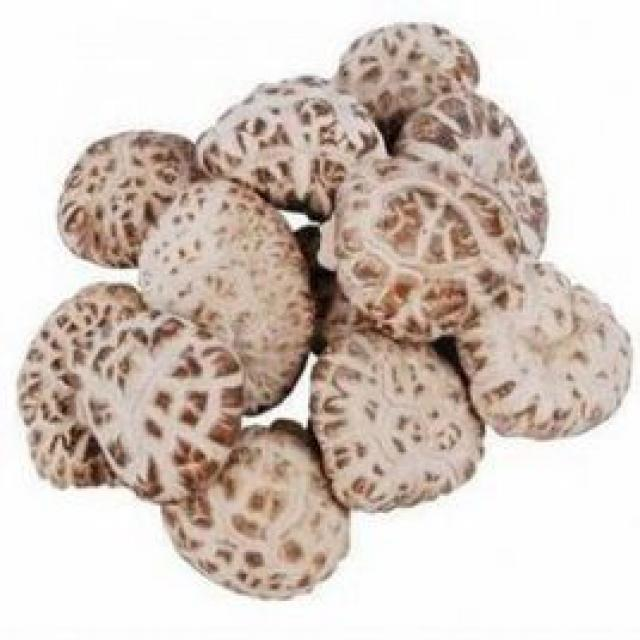Lentinus edodes: (138, 182, 310, 418), (159, 420, 352, 598), (339, 154, 516, 340), (308, 332, 487, 509), (455, 263, 634, 436), (83, 314, 240, 506), (201, 75, 387, 219), (402, 92, 549, 256), (55, 130, 201, 267), (331, 20, 479, 124)
